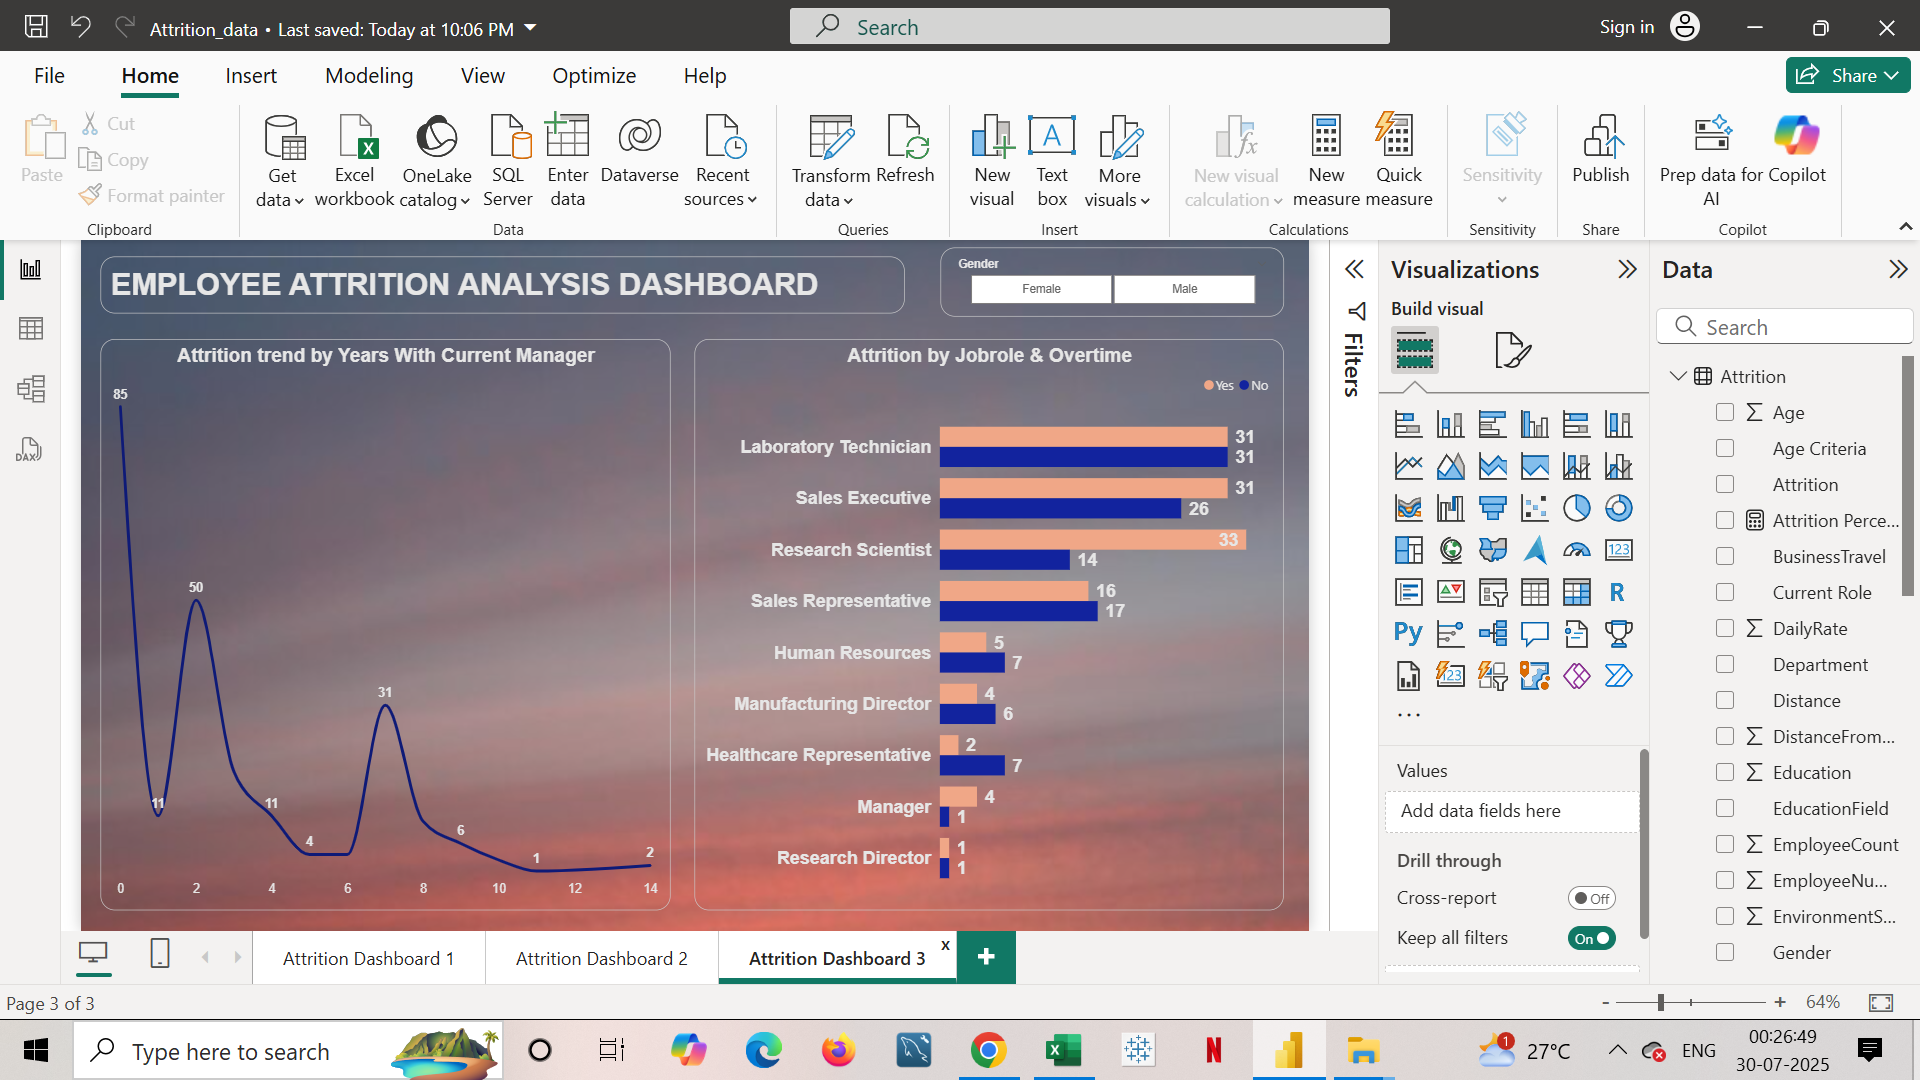

The page's visual inventory and layout, read from the dashboard file:
{"tool":"powerbi","page":{"name":"Attrition Dashboard 3","canvas":[1280,720],"ordinal":2},"visuals":[{"type":"lineChart","title":"Attrition trend by Years With Current Manager","fields":{"Category":["Attrition.YearsWithCurrManager"],"Y":["CountNonNull(Attrition.Attrition)"]},"box":[20.3,103.2,593.9,595.5],"z":0},{"type":"textbox","box":[20.3,17.2,837.8,59.4],"z":1000},{"type":"slicer","fields":{"Values":["Attrition.Gender"]},"box":[895.6,7.8,357.9,71.9],"z":2000},{"type":"clusteredBarChart","title":" Attrition by Jobrole & Overtime","fields":{"Category":["Attrition.JobRole"],"Series":["Attrition.OverTime"],"Y":["CountNonNull(Attrition.Attrition)"]},"box":[639.3,103.2,614.3,595.5],"z":3000}]}

Visuals, with their boxes on the page's 1280x720 design canvas (x1, y1, x2, y2). These are canvas units, not pixel positions in the 1920x1080 screenshot, which may show the page scaled, cropped or inside an application window:
"Attrition trend by Years With Current Manager" lineChart: select_region(20, 103, 614, 699)
textbox: select_region(20, 17, 858, 77)
slicer - Attrition.Gender: select_region(896, 8, 1254, 80)
" Attrition by Jobrole & Overtime" clusteredBarChart: select_region(639, 103, 1254, 699)
